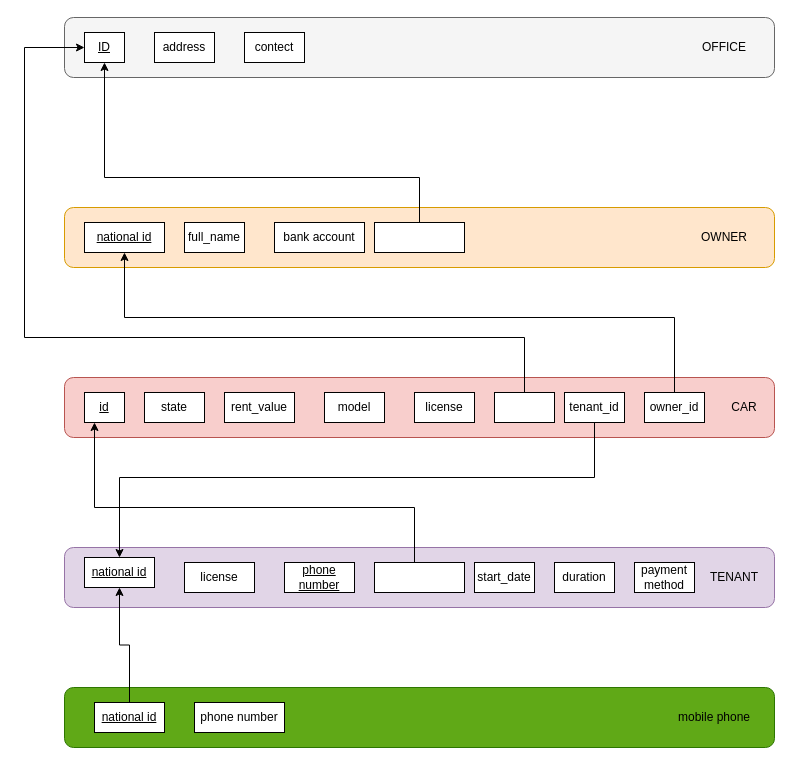
Image size: 792x765. Some labels were removed from this diagram. Here are the shapes that lost their labels. From the top down, the box of each, then its label:
(374, 222, 464, 252): office_id
(494, 392, 554, 422): id_office
(374, 562, 464, 592): car_id
